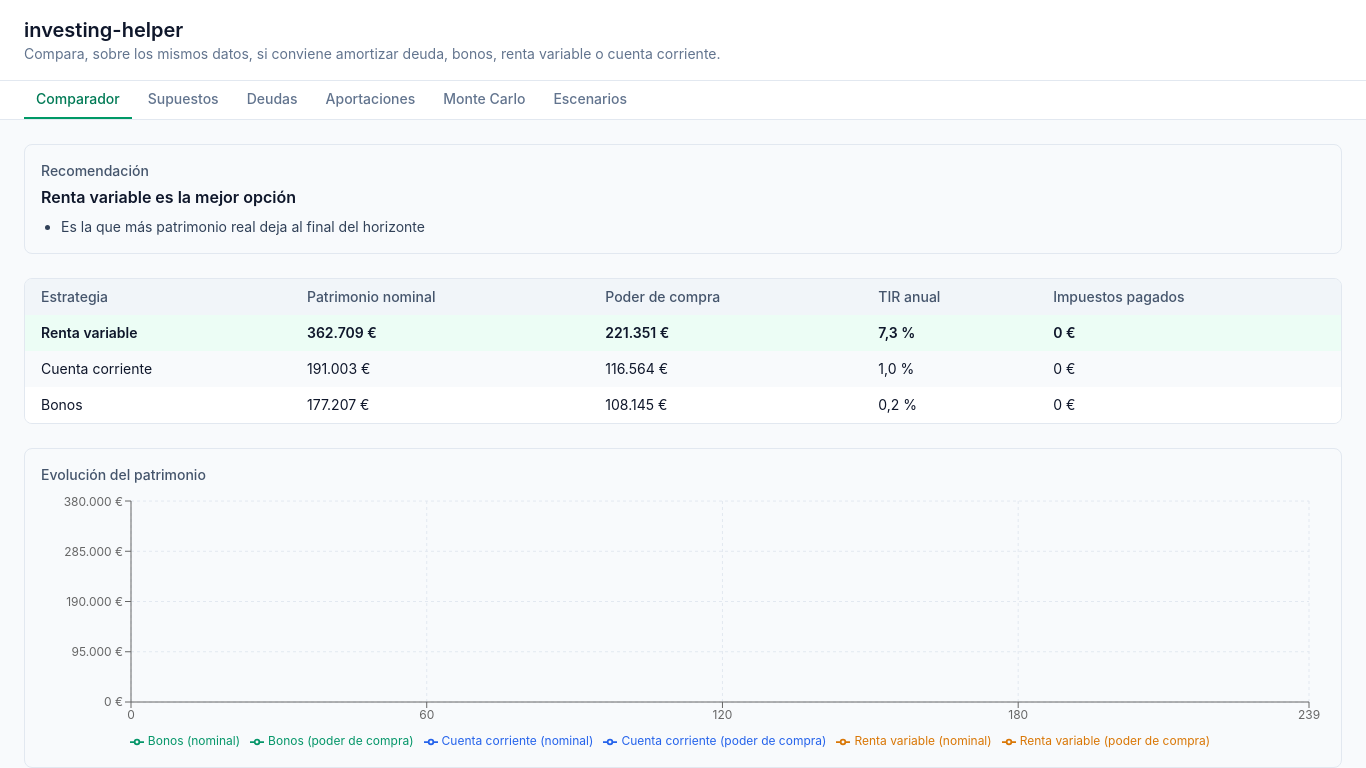
Test case: App › la pestaña de Escenarios muestra el escenario activo y su biblioteca
expect the button "Comparador" is shown: met, box [24,81,132,119]
Click the button "Escenarios" at (590, 100), box [541,81,639,119]
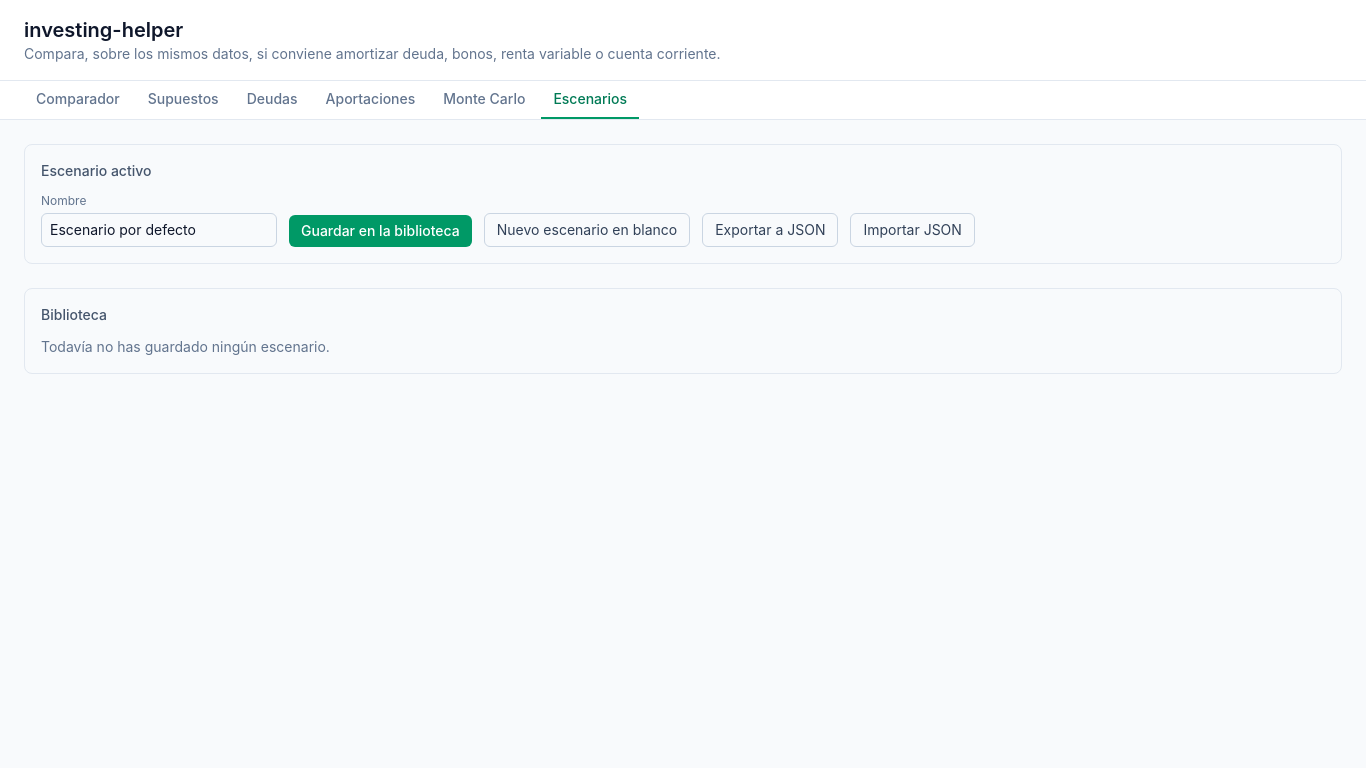
expect the heading "Escenario activo" is shown: met, box [41,162,152,179]
expect the heading "Biblioteca" is shown: met, box [41,306,107,323]
